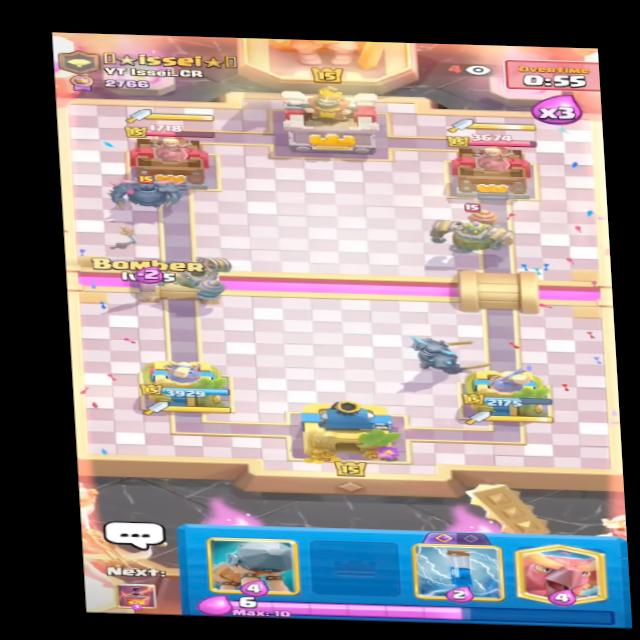goblin-machine: (424, 198, 530, 252)
pekka: (100, 169, 188, 212)
